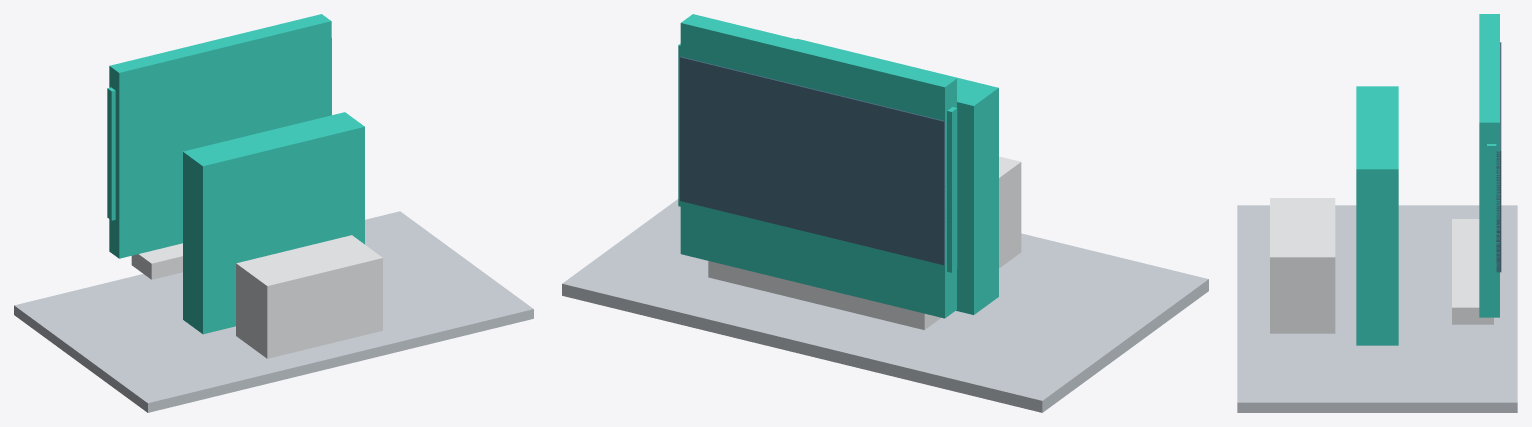
The picture shows the model from 3 angles, left to right: view 1: azimuth 30°, elevation 25°; view 2: azimuth 150°, elevation 25°; view 3: azimuth 270°, elevation 25°; orthographic projection. The views are drawn at different scales.
Parts seen in each view (by area): view 1: Exhibition Booth Concept; view 2: Exhibition Booth Concept; view 3: Exhibition Booth Concept.
Boxes of the visible parts, x1,y1,x2,y2 form: Exhibition Booth Concept: (14, 14, 533, 412); Exhibition Booth Concept: (562, 14, 1208, 412); Exhibition Booth Concept: (1237, 14, 1517, 412).
Bounding box in the file's own units: 5 × 2.9 × 3.
